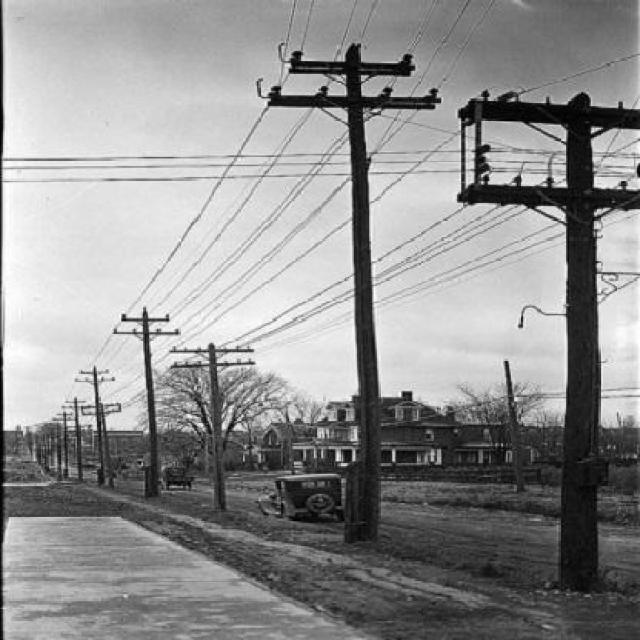non-critical vegetation: (456, 83, 636, 582), (262, 48, 442, 532), (166, 340, 254, 511), (114, 304, 172, 502)
